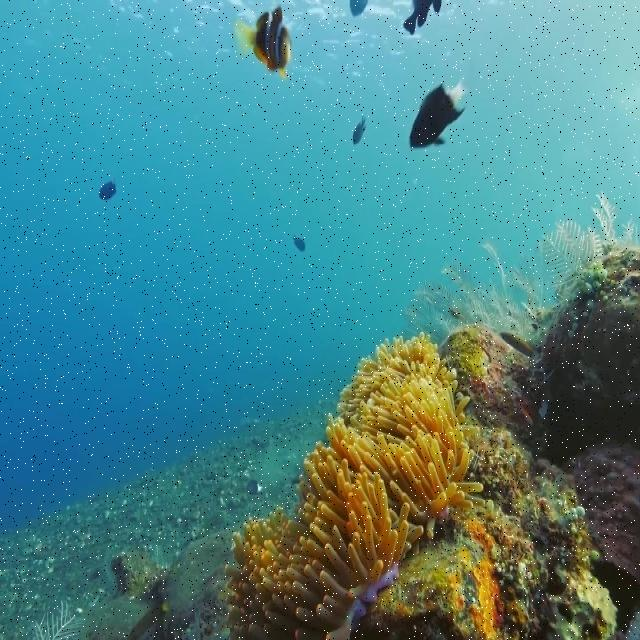aquatic plants: (408, 241, 551, 341), (540, 219, 603, 302), (591, 191, 617, 245)
fish: (235, 7, 292, 81), (409, 78, 466, 149), (403, 0, 435, 34), (352, 116, 366, 145), (99, 179, 117, 201), (350, 0, 369, 16), (294, 236, 305, 252)
reefs: (225, 331, 486, 639)
sea-floor: (350, 330, 617, 639), (543, 246, 639, 580)
